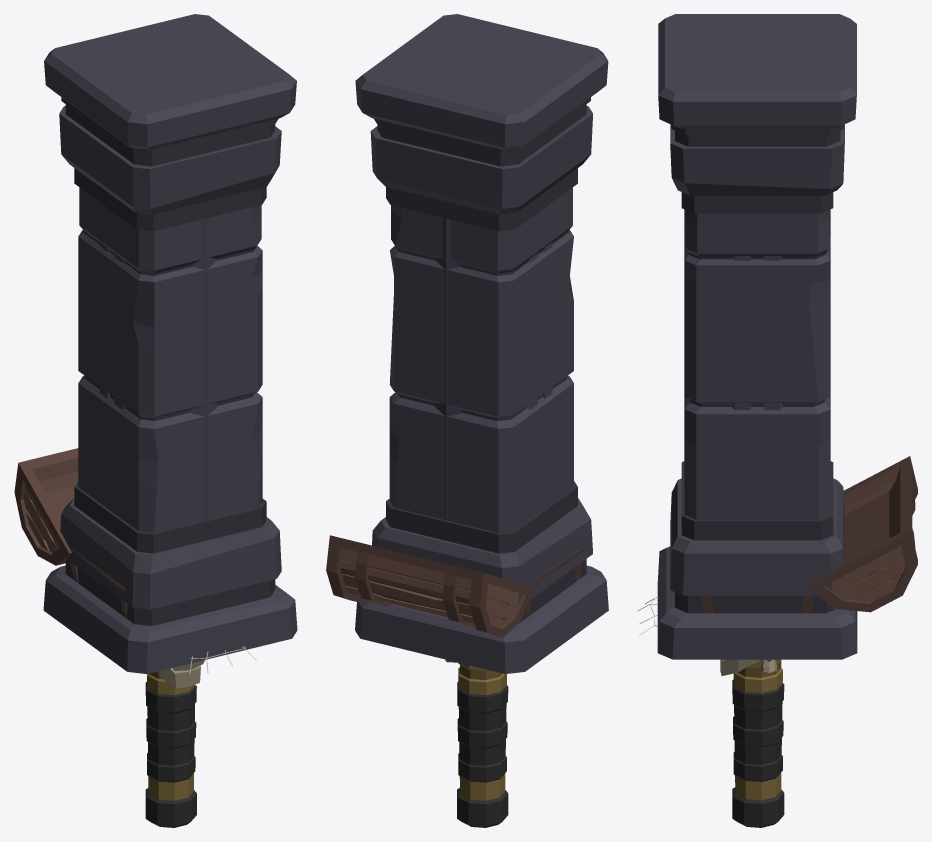
The model's file is masmorra.glb.
3 renders of one model, left to right at view 1: azimuth 30°, elevation 25°; view 2: azimuth 150°, elevation 25°; view 3: azimuth 270°, elevation 25°, orthographic.
Parts seen in each view (by area): view 1: Column, Column2, Torch, Chest_Top, Skull; view 2: Column, Column2, Chest_Top, Torch; view 3: Column, Column2, Chest_Top, Torch, Chest_Base.
Boxes of the visible parts, x1,y1,x2,y2 form: Column: (43,97,297,673); Column2: (44,14,296,642); Torch: (145,672,196,827); Chest_Top: (14,448,78,565); Skull: (157,660,204,688); Column: (355,97,608,673); Column2: (355,14,608,642); Chest_Top: (326,535,534,637); Torch: (457,662,508,827); Column: (657,125,857,659); Column2: (658,14,856,627); Chest_Top: (806,456,917,612); Torch: (732,659,784,827); Chest_Base: (698,580,814,613).
Size of the model in its own units: 1.3 by 5.53 by 1.84.
